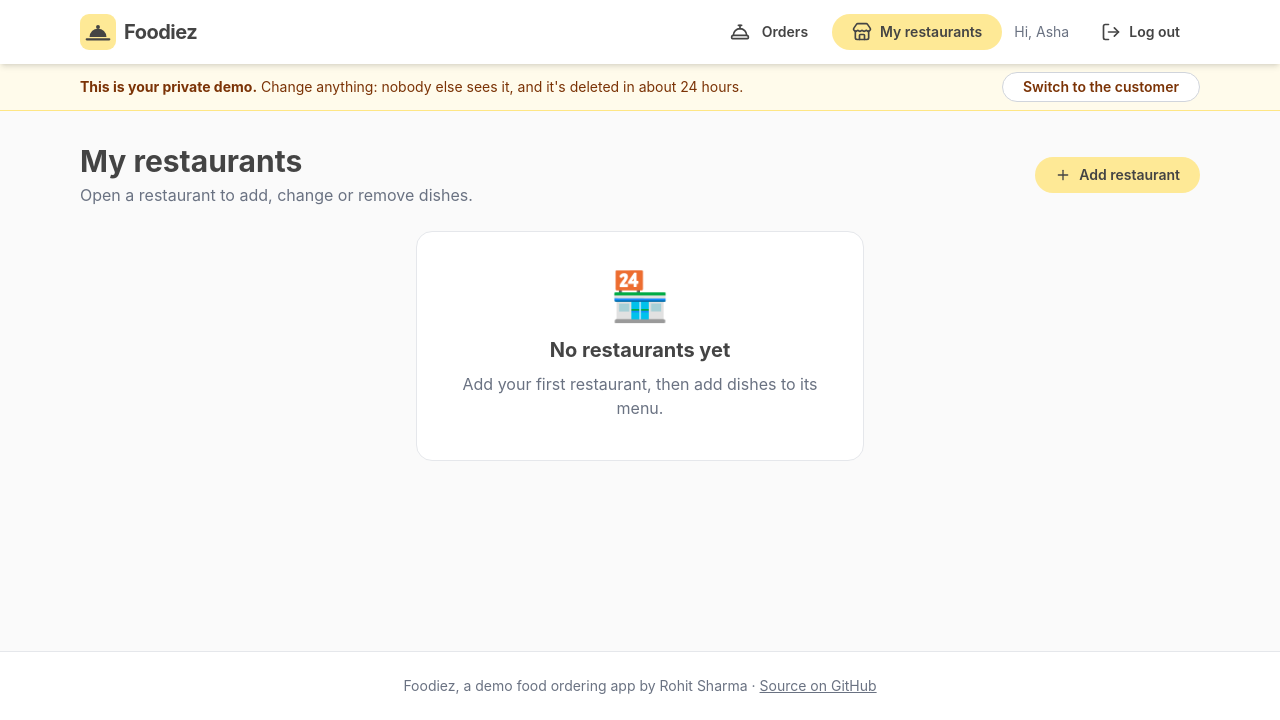
Test: try the demo › switches from the restaurant owner to the customer of the same demo
Click the button "Switch to the customer": [1101, 87] box top-left (1002, 72), bottom-right (1200, 102)
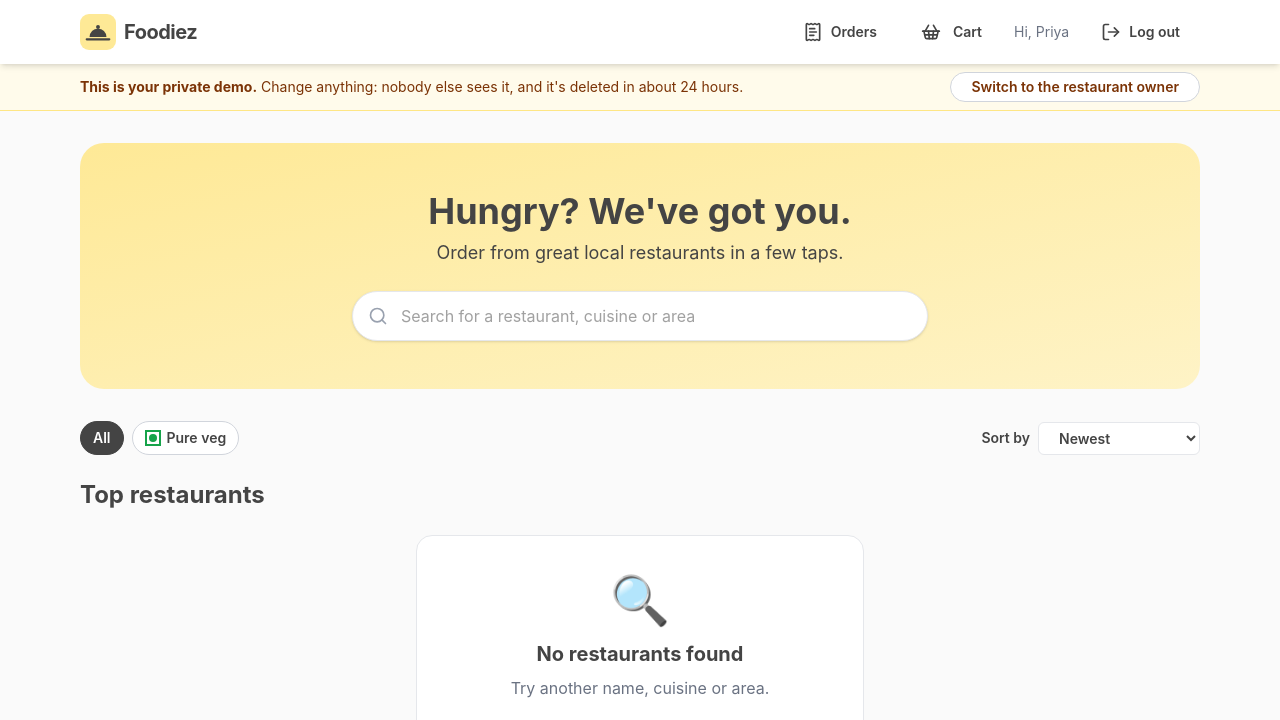
Check: the text "Hi, Priya" is shown, box top-left (1014, 23), bottom-right (1069, 40)
Check: the button "Switch to the restaurant owner" is shown, box top-left (950, 72), bottom-right (1200, 102)
